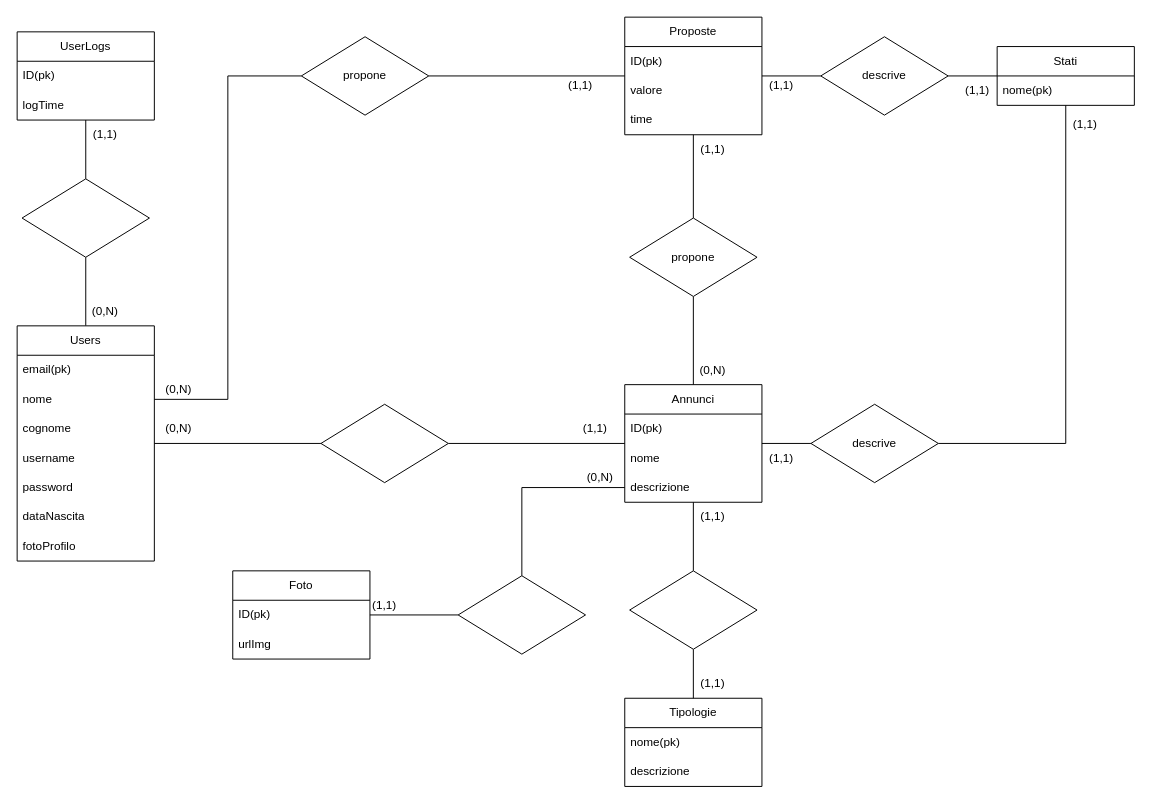
Some shapes in this 1152 by 804 pixel diagram are drawn without their labels. Each missing label, with the centre of its shape:
pubblica: (x=384, y=443)
rappresentare: (x=521, y=614)
registrare: (x=85, y=217)
riguarda: (x=693, y=609)
